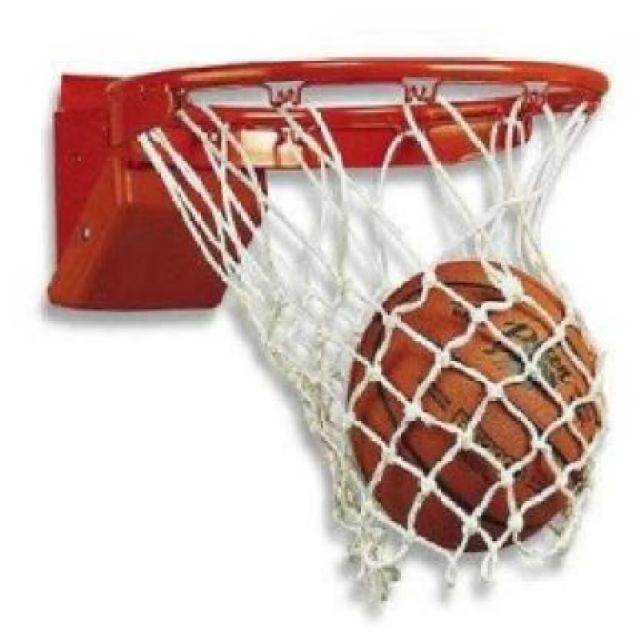basketball: (340, 252, 606, 556)
rim: (121, 52, 624, 608)
